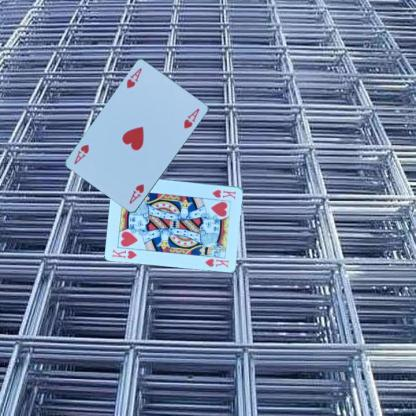Ah: (124, 65, 143, 90), (127, 182, 146, 205)
Kh: (110, 246, 138, 260), (210, 187, 237, 200)
